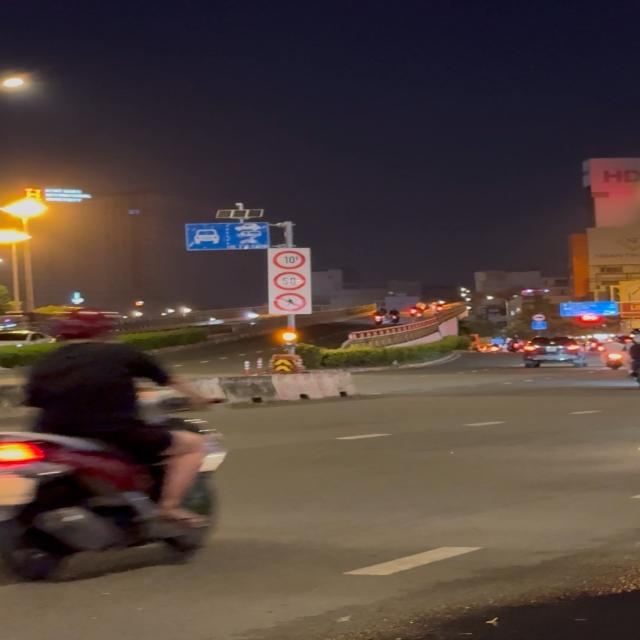Bien bao cam nguoi di bo: (272, 292, 312, 314)
Bien bao toc do toi da cho phep: (273, 271, 308, 292)
